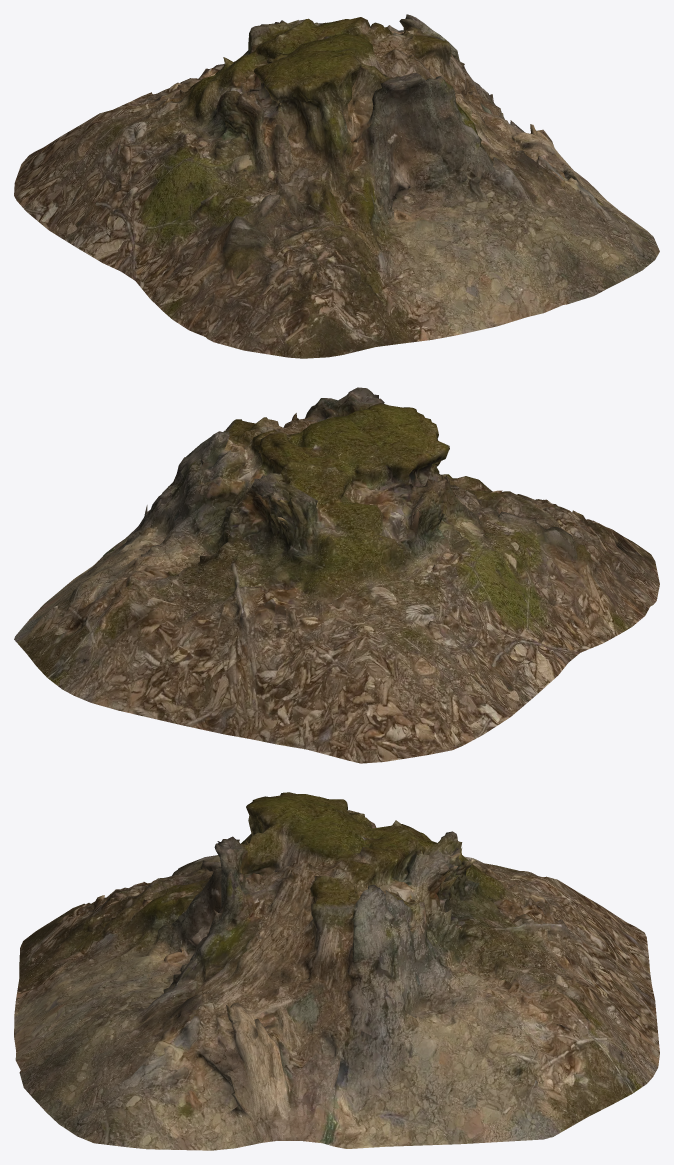
File: tree_stump_01.glb
The picture shows the model from 3 angles, top to bottom: view 1: azimuth 30°, elevation 25°; view 2: azimuth 150°, elevation 25°; view 3: azimuth 270°, elevation 25°; orthographic projection. The views are drawn at different scales.
Visible parts, largest first — view 1: tree_stump_01; view 2: tree_stump_01; view 3: tree_stump_01.
Part boxes in pixels (bbox=[...]): tree_stump_01: bbox=[14, 14, 659, 358]; tree_stump_01: bbox=[14, 387, 659, 763]; tree_stump_01: bbox=[14, 792, 659, 1150].
Size of the model in its own units: 1.43 by 0.5725 by 1.59.
1 material, 1 textured.
